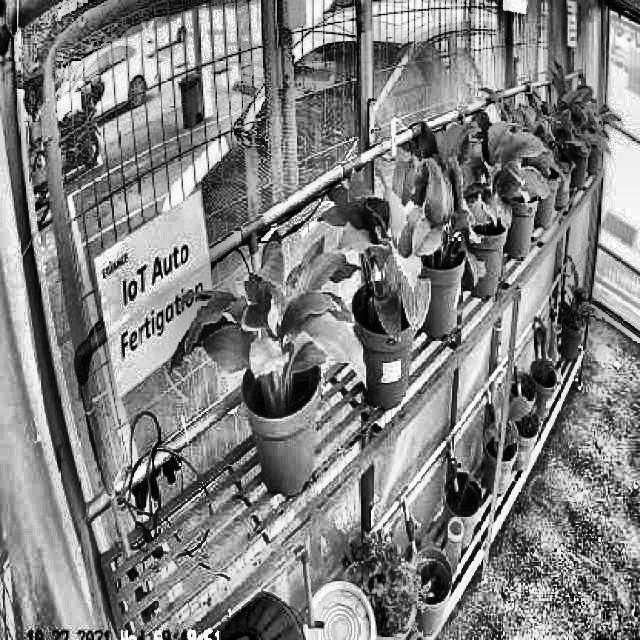plants: (163, 224, 366, 410), (316, 162, 433, 332), (385, 116, 490, 287), (444, 88, 548, 220)
